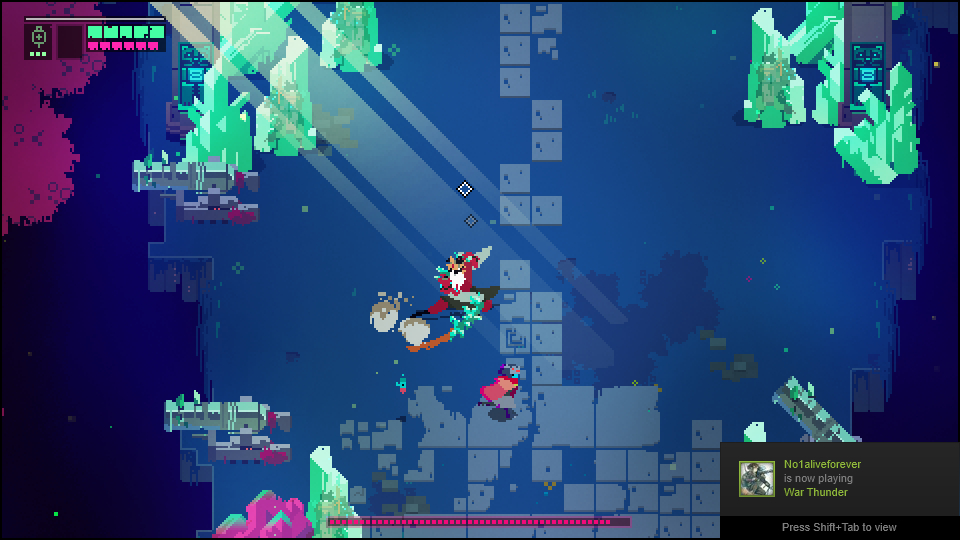hanged_man: (403, 246, 493, 350)
player: (479, 357, 525, 417)
